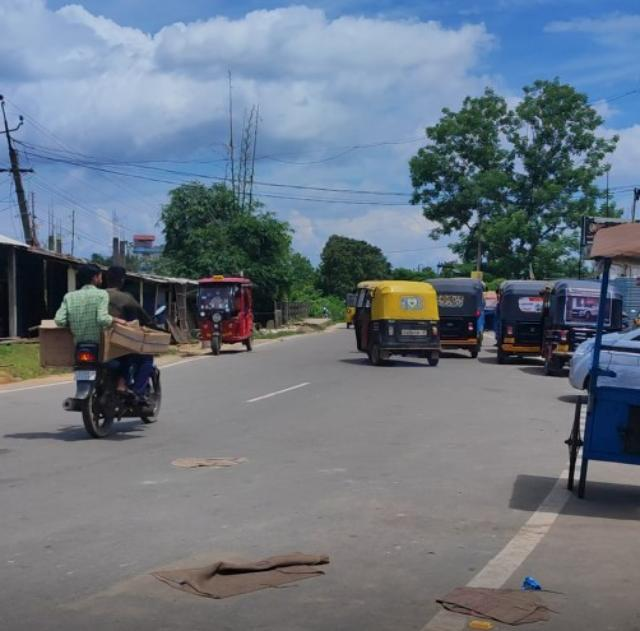licensePlate: (72, 368, 97, 383)
motorcycle: (54, 260, 164, 435)
withoutHelmet: (74, 263, 103, 289), (105, 265, 124, 290)
